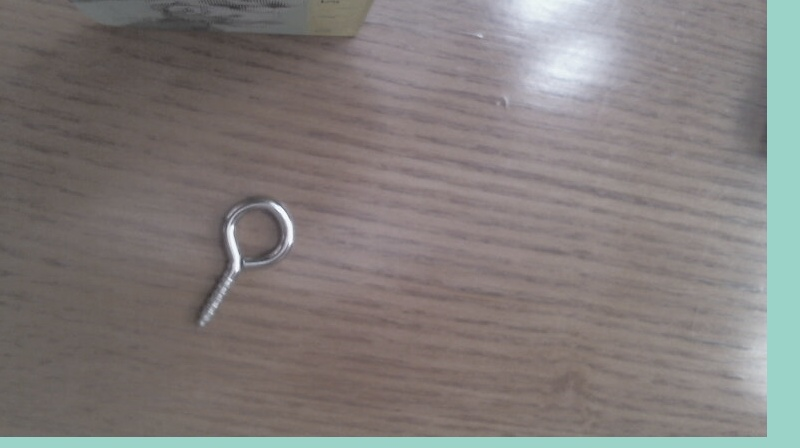O001: (193, 191, 299, 329)
